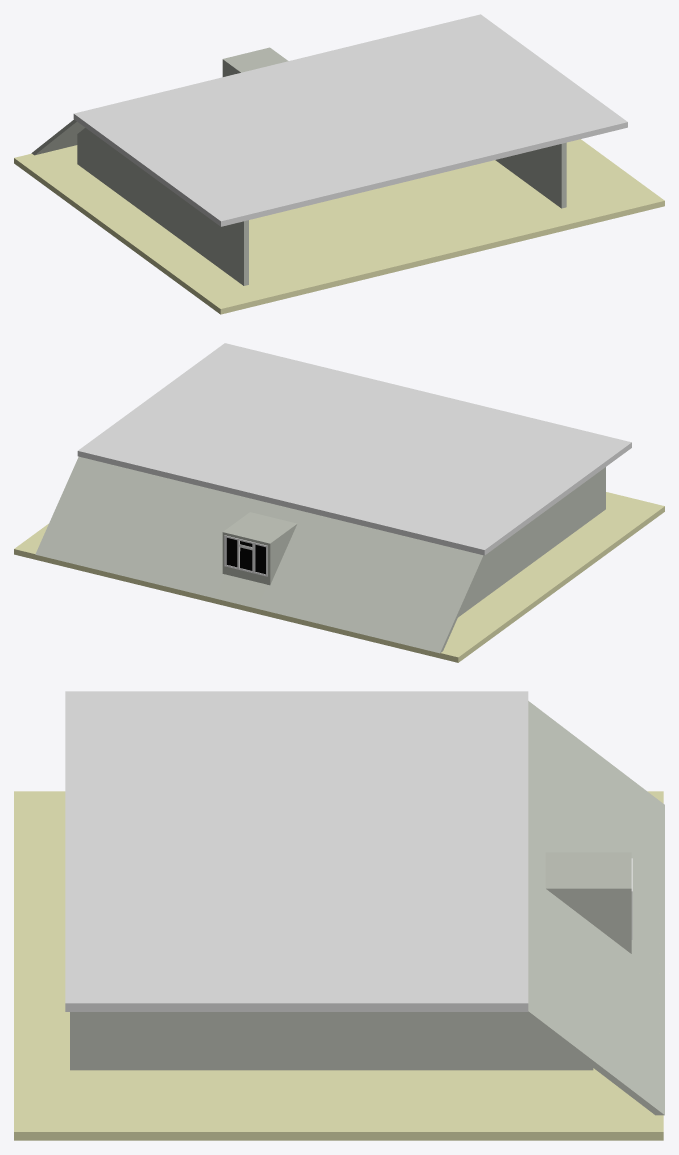
Rendered from attic.fbx.
3 renders of one model, top to bottom at view 1: azimuth 30°, elevation 25°; view 2: azimuth 150°, elevation 25°; view 3: azimuth 270°, elevation 25°, orthographic. The views are drawn at different scales.
Visible parts, largest first — view 1: Ceiling, Floor, Wall4.001, Wall4.002, WallWindow, Slant1; view 2: Ceiling, Slant1, Floor, Wall4.001, WallWindow, Window; view 3: Ceiling, Floor, Slant1, Wall4.002, WallWindow.
Boxes of the visible parts, <box> form: Ceiling: <box>73,14,627,226</box>; Floor: <box>14,139,664,314</box>; Wall4.001: <box>77,128,248,285</box>; Wall4.002: <box>495,142,566,208</box>; WallWindow: <box>222,47,288,76</box>; Slant1: <box>31,119,85,155</box>; Ceiling: <box>77,343,631,555</box>; Slant1: <box>35,456,485,653</box>; Floor: <box>14,492,664,662</box>; Wall4.001: <box>458,467,605,617</box>; WallWindow: <box>222,512,296,585</box>; Window: <box>224,535,267,576</box>; Ceiling: <box>65,691,528,1011</box>; Floor: <box>14,791,663,1140</box>; Slant1: <box>520,701,664,1115</box>; Wall4.002: <box>70,1012,593,1070</box>; WallWindow: <box>545,852,631,953</box>.
Size of the model in its own units: 1686 by 280 by 1361.
